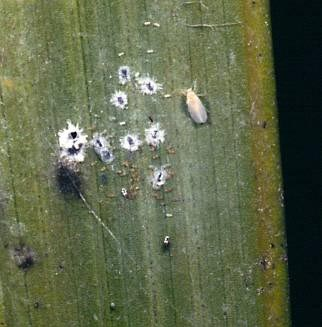whitefly: (181, 80, 210, 125)
